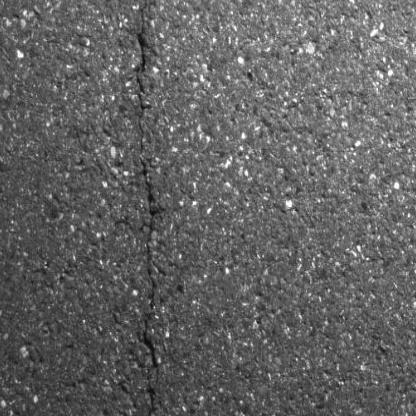Cracks: (131, 0, 165, 416)
